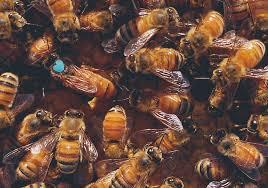Queen-Bee: (46, 51, 125, 102)
worker-bee: (206, 122, 268, 176), (98, 143, 165, 188), (53, 109, 94, 177), (117, 3, 180, 46), (129, 80, 195, 121), (219, 34, 265, 90), (41, 0, 88, 47), (119, 47, 187, 77), (97, 106, 132, 161), (185, 9, 223, 59), (1, 66, 24, 134), (17, 110, 58, 144)
